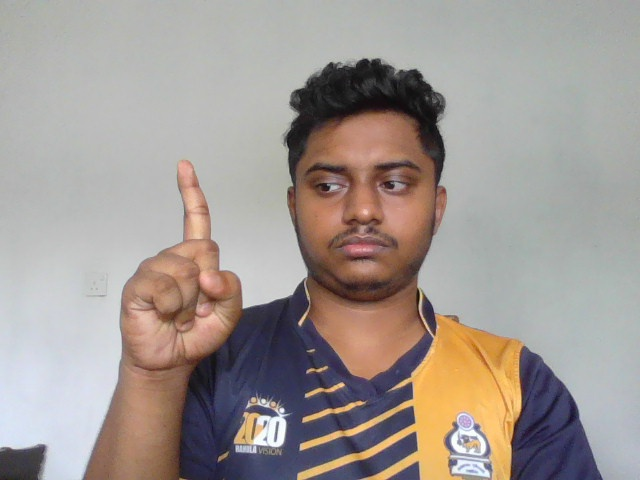Me: (116, 157, 245, 369)
